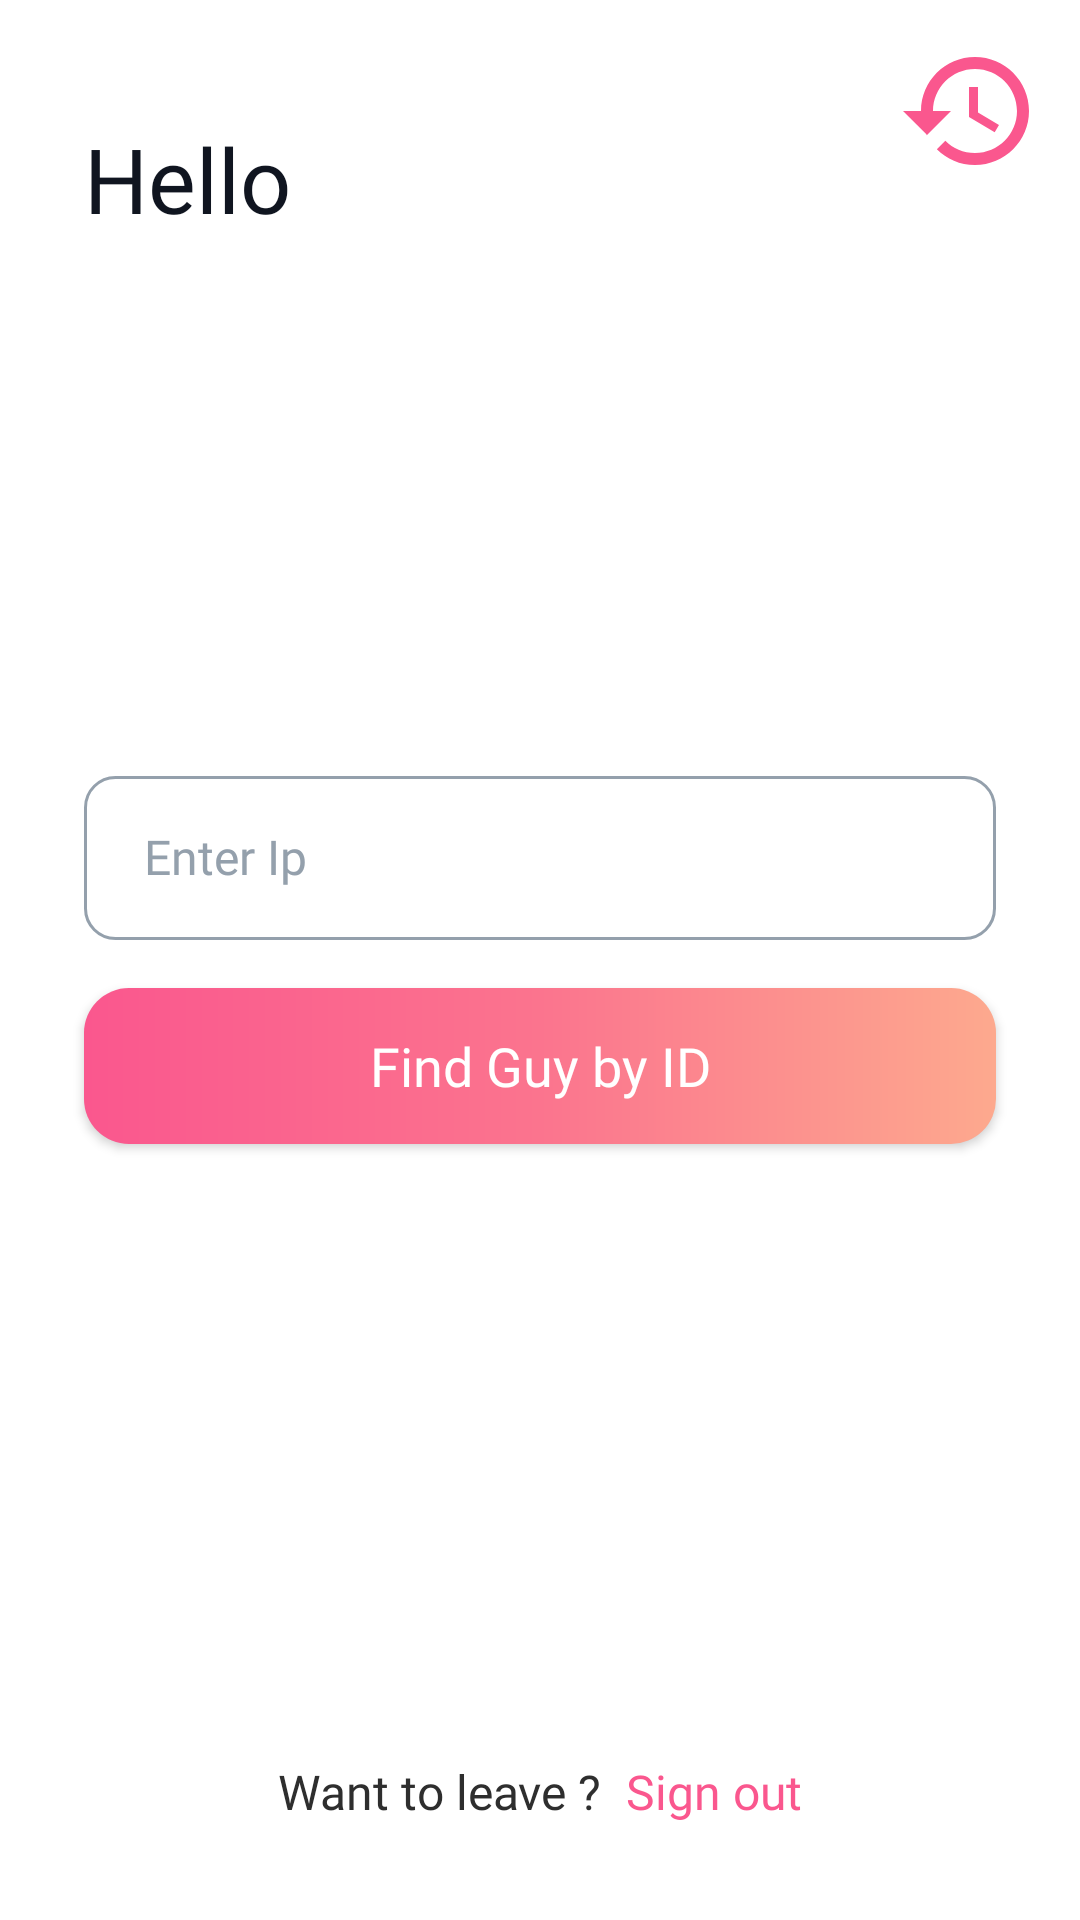

Icon bounding boxes for this 1080×1920 phone screenshot, format Rect(x1, y1, x2, y2):
history: Rect(903, 57, 1029, 165)
